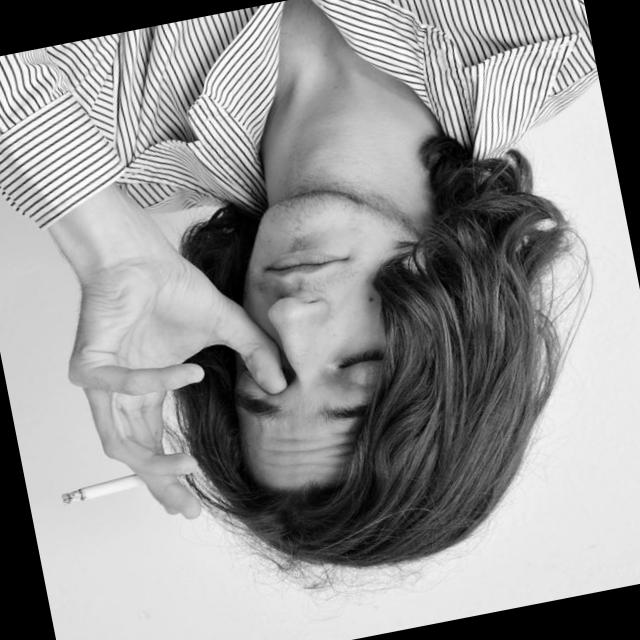cigarette: (44, 445, 193, 524)
